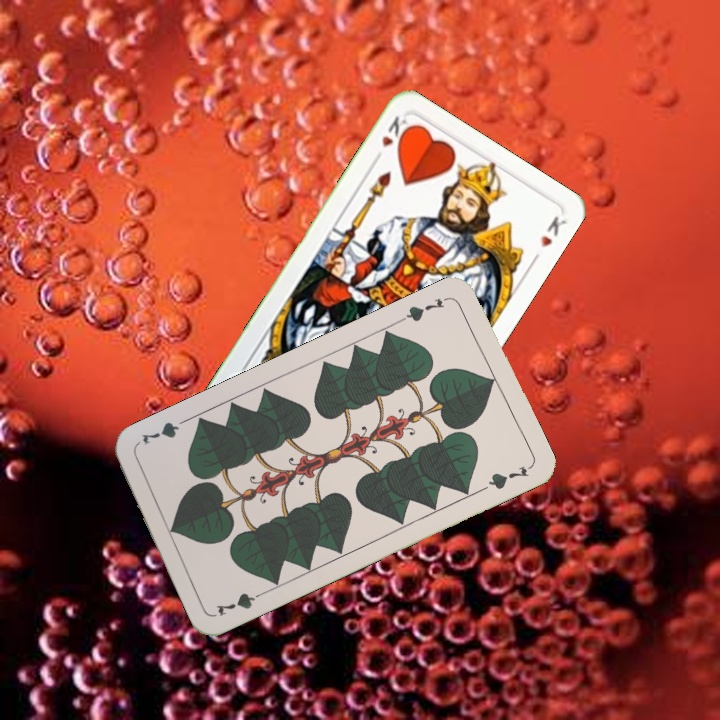G7: (212, 586, 269, 618), (397, 292, 453, 324)
HK: (369, 112, 413, 165)
